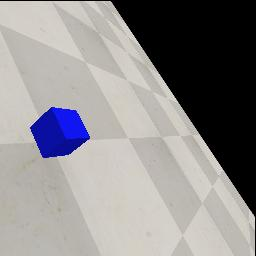box: (30, 107, 90, 158)
